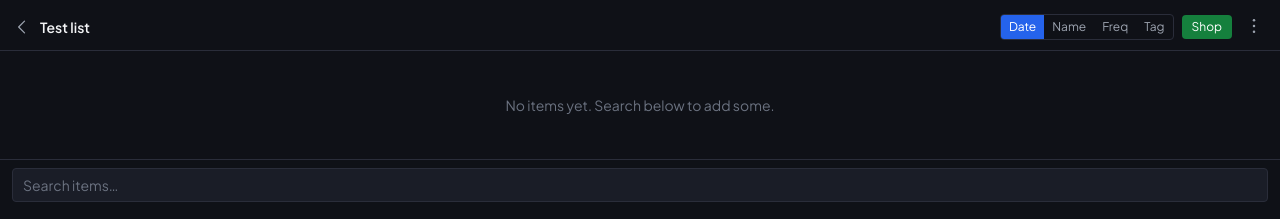
Test case: ListScreen — rename list › opens a rename dialog from the three-dot menu
What coordinates should you click on to do the following:
click the button named "more options"
I would click on:
 (1254, 26)
Its box is [1240, 12, 1268, 40].
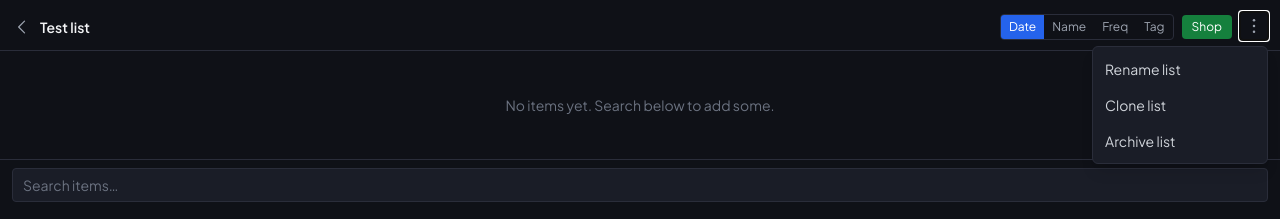
Now the button "Rename list" is shown, box [1093, 51, 1267, 87]
